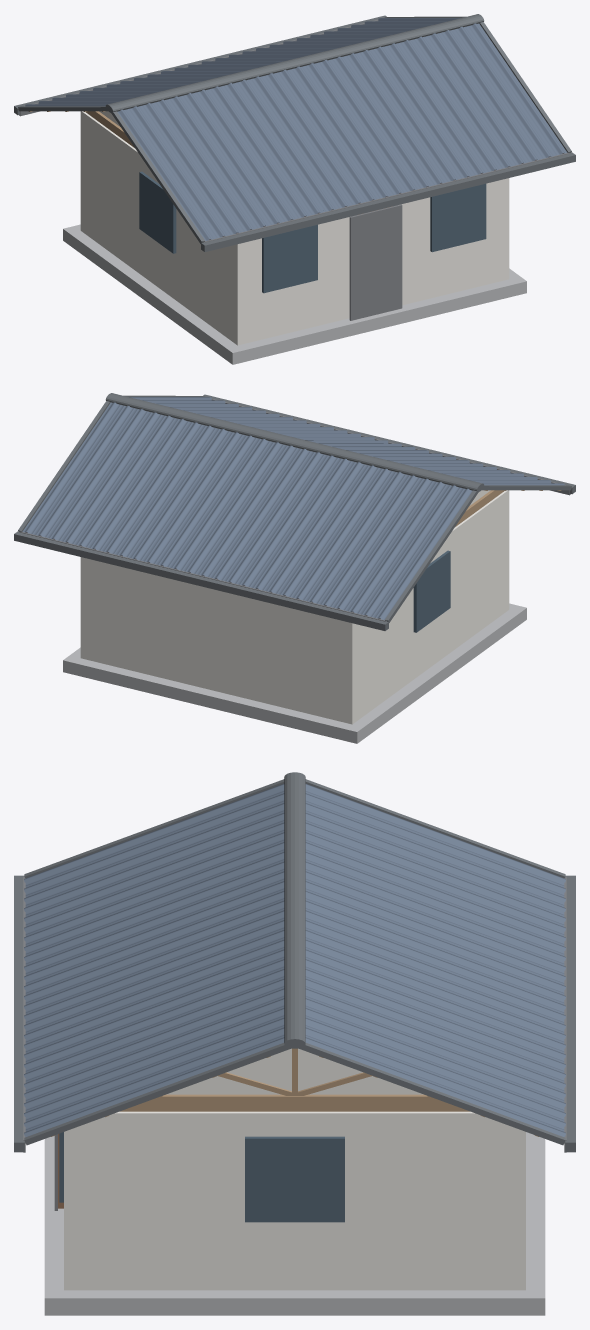
File: Mega_Hi_Rib_Starter_House_6x6.glb
3 views of the same model, one above another, from view 1: azimuth 30°, elevation 25°; view 2: azimuth 150°, elevation 25°; view 3: azimuth 270°, elevation 25° (orthographic). The views are drawn at different scales.
Parts seen in each view (by area): view 1: GroundFloor_Walls, Foundation, RoofSheet_03, RoofSheet_05, RoofSheet_06, RoofSheet_02, RoofSheet_08, RoofSheet_07, RoofSheet_04, RoofSheet_09, RoofSheet_01, Door_Frame (+19 smaller); view 2: GroundFloor_Walls, Foundation, RoofSheet_12, RoofSheet_14, RoofSheet_15, RoofSheet_11, RoofSheet_17, RoofSheet_16, RoofSheet_13, RoofSheet_18, RoofSheet_10, Gutter_Back (+16 smaller); view 3: GroundFloor_Walls, Foundation, Window_Side_Right, RoofSheet_06, RoofSheet_08, RoofSheet_15, RoofSheet_17, RoofSheet_02, RoofSheet_04, RoofSheet_05, RoofSheet_07, RoofSheet_11 (+19 smaller).
Boxes of the visible parts, box(x1,y1,x2,y2) form: GroundFloor_Walls: box(80, 111, 509, 345); Foundation: box(63, 224, 526, 364); RoofSheet_03: box(196, 82, 324, 221); RoofSheet_05: box(277, 63, 405, 201); RoofSheet_06: box(318, 53, 446, 191); RoofSheet_02: box(155, 92, 283, 231); RoofSheet_08: box(399, 33, 527, 171); RoofSheet_07: box(359, 43, 487, 181); RoofSheet_04: box(237, 73, 364, 211); RoofSheet_09: box(440, 23, 567, 162); RoofSheet_01: box(117, 102, 242, 240); Door_Frame: box(349, 204, 402, 320); GroundFloor_Walls: box(80, 490, 509, 724); Foundation: box(63, 603, 526, 743); RoofSheet_12: box(265, 461, 393, 600); RoofSheet_14: box(184, 442, 312, 580); RoofSheet_15: box(143, 432, 271, 570); RoofSheet_11: box(306, 471, 434, 610); RoofSheet_17: box(62, 412, 190, 550); RoofSheet_16: box(102, 422, 230, 560); RoofSheet_13: box(225, 452, 352, 590); RoofSheet_18: box(22, 402, 149, 541); RoofSheet_10: box(347, 481, 472, 619); Gutter_Back: box(14, 531, 388, 630); GroundFloor_Walls: box(64, 1111, 525, 1290); Foundation: box(44, 1132, 545, 1315); Window_Side_Right: box(245, 1136, 344, 1222); RoofSheet_06: box(24, 930, 284, 1053); RoofSheet_08: box(24, 988, 284, 1111); RoofSheet_15: box(305, 930, 565, 1053); RoofSheet_17: box(305, 988, 565, 1111); RoofSheet_02: box(24, 813, 284, 936); RoofSheet_04: box(24, 871, 284, 994); RoofSheet_05: box(24, 900, 284, 1024); RoofSheet_07: box(24, 959, 284, 1082); RoofSheet_11: box(305, 813, 565, 936).
Size of the model in its own units: 8.2 by 4.36 by 7.3.
